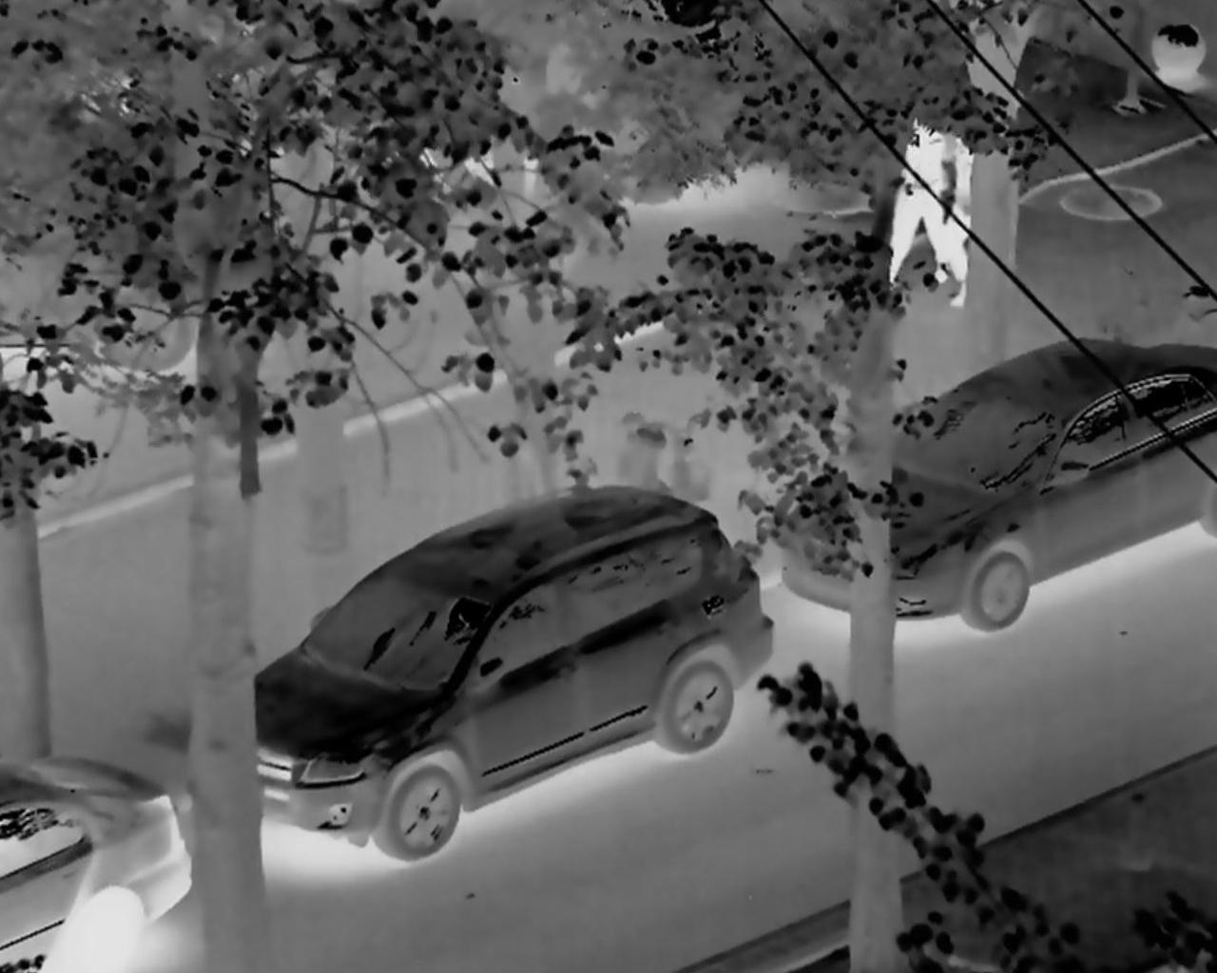person: (877, 103, 948, 294), (940, 113, 1010, 304)
